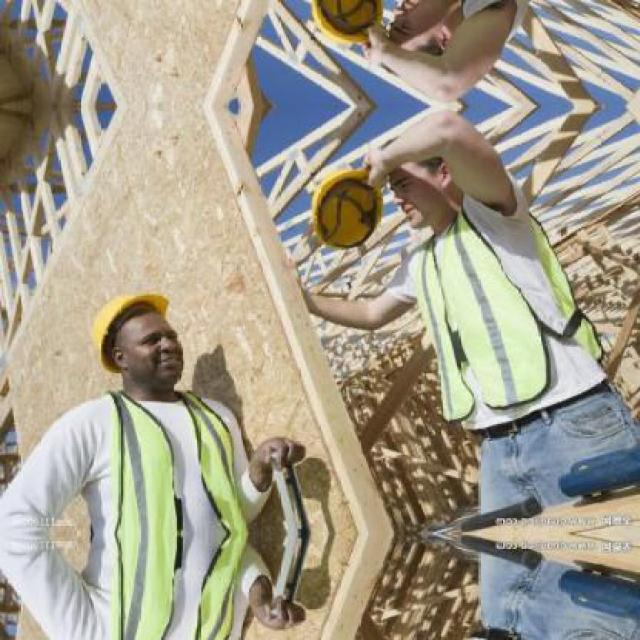Reflective-Jacket: (37, 384, 260, 637), (399, 201, 606, 424)
Safety-Helmet: (74, 279, 192, 375), (306, 160, 382, 258)
